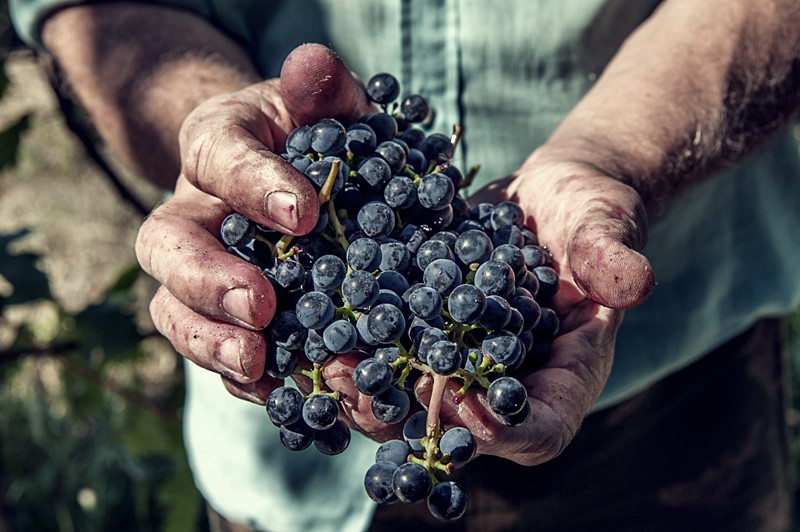Black grapes: (210, 100, 567, 496)
